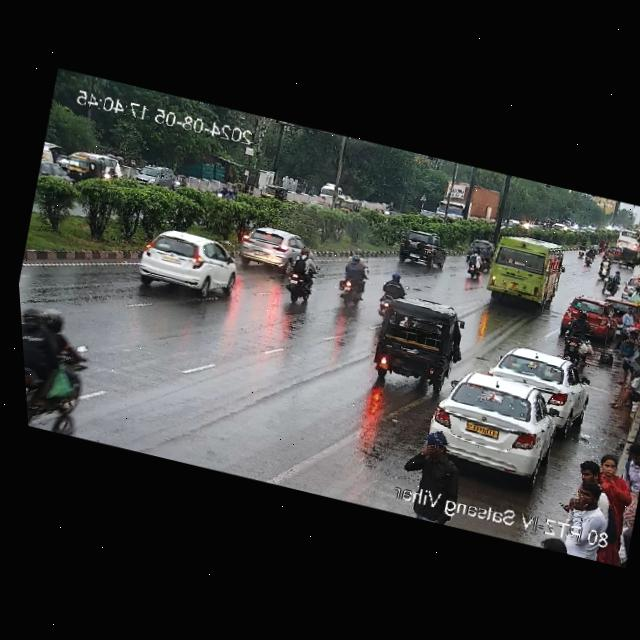bus: (477, 229, 574, 315)
person: (572, 453, 640, 562), (390, 416, 474, 498), (545, 477, 616, 562), (564, 456, 618, 513), (610, 327, 640, 388), (609, 364, 640, 415), (617, 435, 640, 492), (610, 305, 636, 353), (525, 532, 575, 555)
